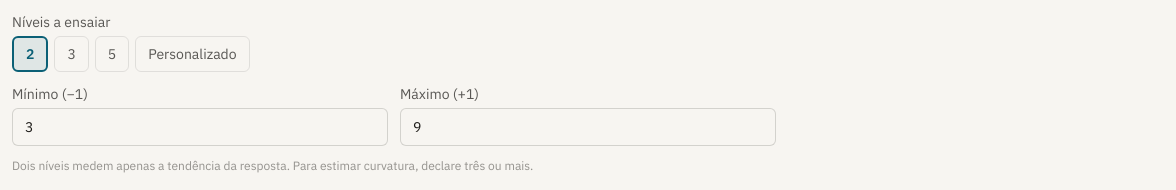
it: NiveisFator — fator quantitativo › escolher 3 níveis revela o campo de centro já preenchido com a média de low e high
Click the radio button labelled "3".
click(72, 54)  # box [54,36,89,72]
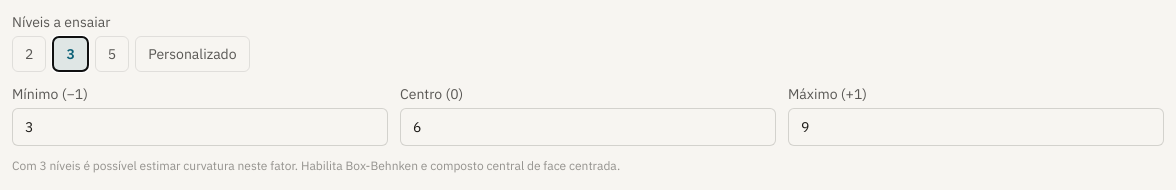
Expected: the number field labelled "Centro (0)" holds "6", [400,108,776,146]
